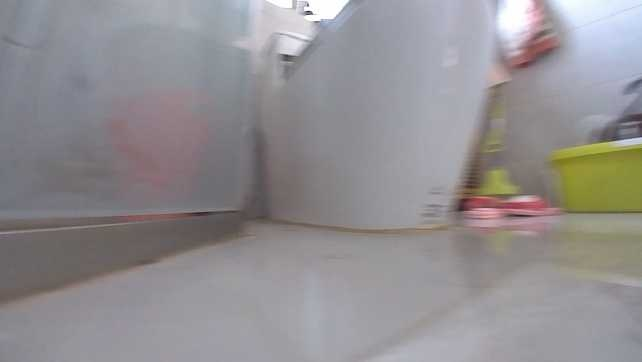toilet: (257, 0, 508, 236)
